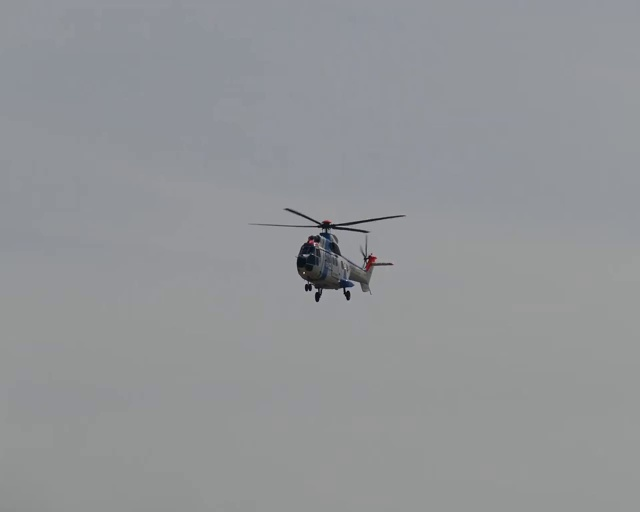HELICOPTER: (248, 206, 406, 302)
